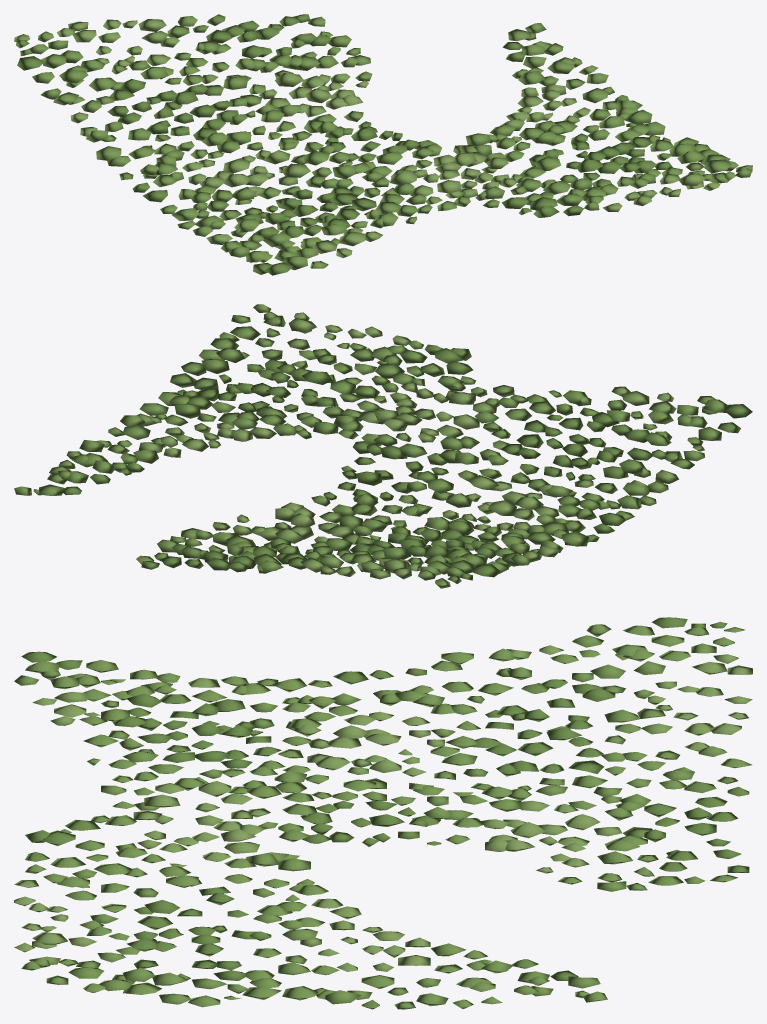
File: canopy-1-2--6.glb
The picture shows the model from 3 angles, top to bottom: view 1: azimuth 30°, elevation 25°; view 2: azimuth 150°, elevation 25°; view 3: azimuth 270°, elevation 25°; orthographic projection. The views are drawn at different scales.
Bounding box in the file's own units: 512 × 75 × 510.
1 material, 1 textured.
